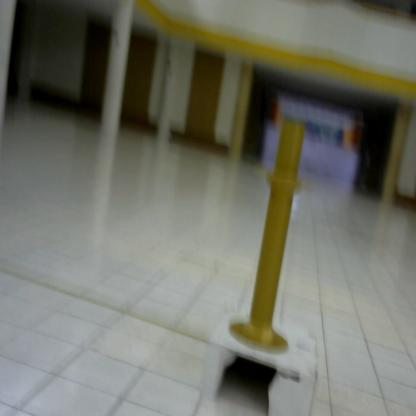pole: (226, 117, 326, 356)
